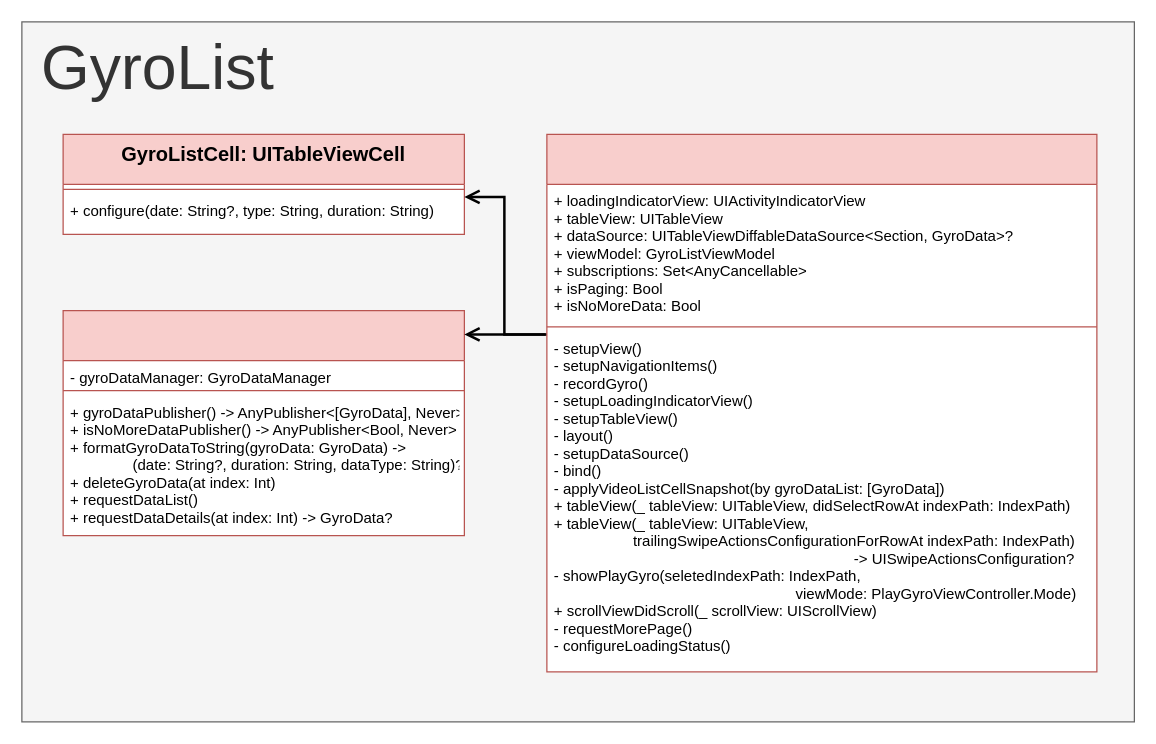
The diagram is 1156 pixels wide and 744 high, and some of its shapes have lost their labels. Here are the shapes that lost their labels. From the top down, the box of each, then its label:
(62, 309, 464, 536): GyroListViewModel
(546, 133, 1097, 672): VideoListViewController: UIViewController
